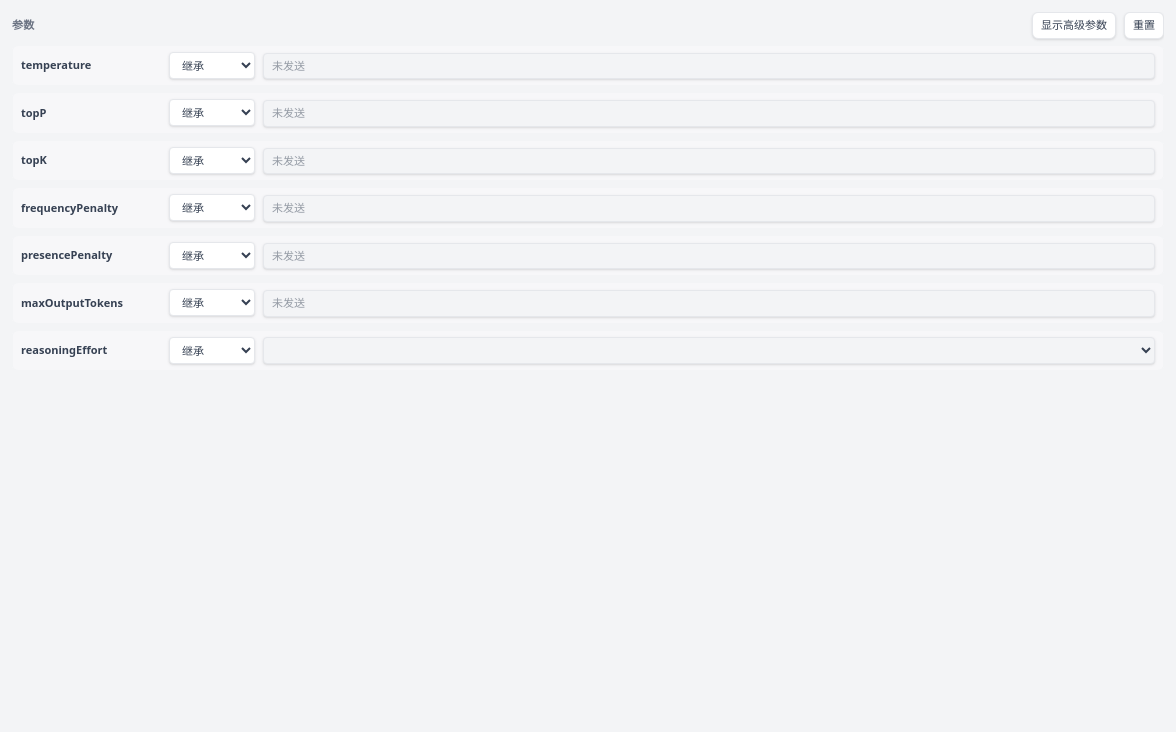
Scenario: GenerationParamsSettingsEditor › hides advanced supported params until the advanced control is enabled
The image size is (1176, 732).
Expected: the dropdown with test id "generation-param-mode-temperature" is shown, [169,52,255,79]
Click the button with test id "generation-params-advanced-toggle" at (1074, 25), box [1032,12,1116,38]
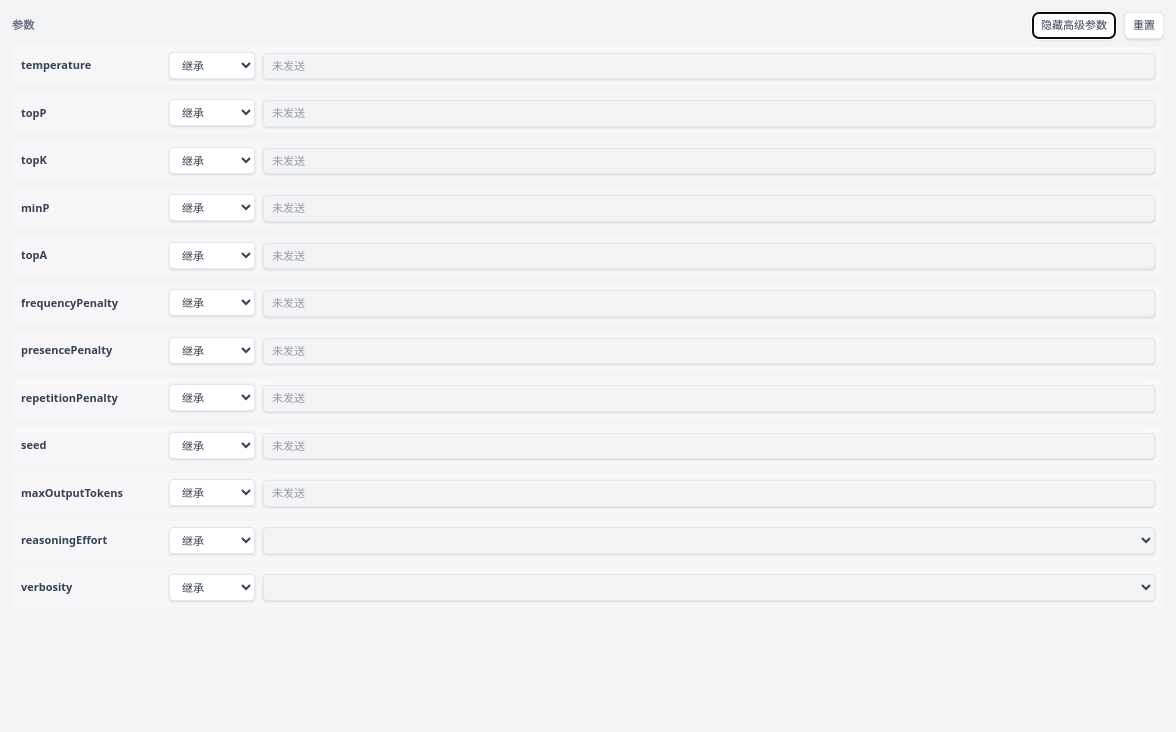
Expected: the dropdown with test id "generation-param-mode-minP" is shown, [169,194,255,221]
Expected: the dropdown with test id "generation-param-mode-repetitionPenalty" is shown, [169,384,255,411]
